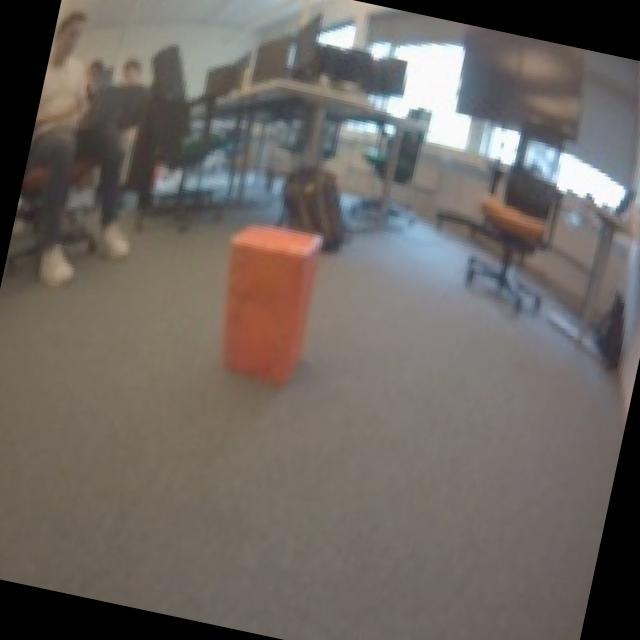target: (199, 211, 330, 388)
